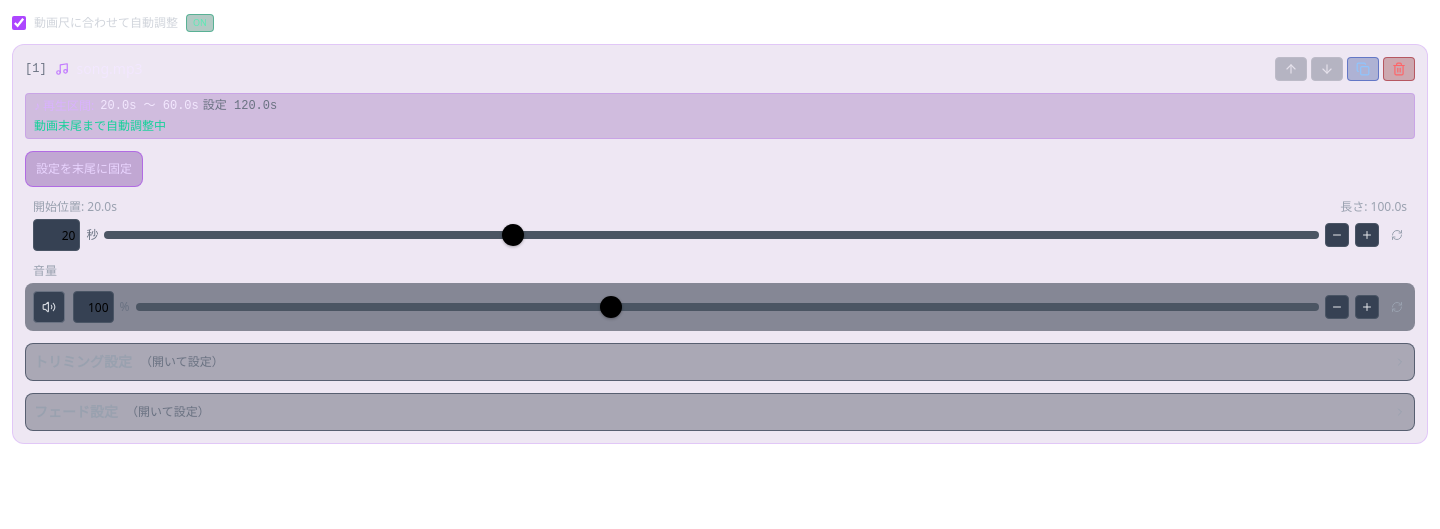
BgmClipList timeline adjustment › 対象のBGMが現在流れていないときはトリム反映を無効にする
Click the button "トリミング設定 （開いて設定）" at [83, 362], box [26,344,1414,380]
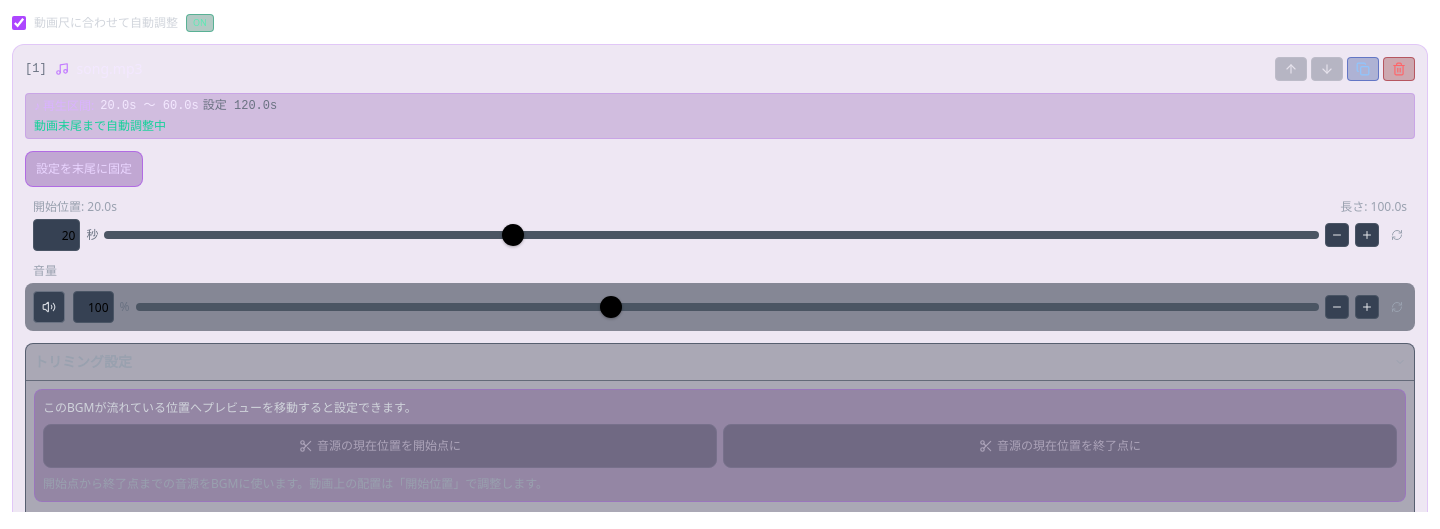
Now the text "このBGMが流れている位置へプレビューを移動すると設定できます。" is shown, box [43,399,417,416]
Now the button "音源の現在位置を開始点に" is disabled, box [43,424,717,468]
Now the button "音源の現在位置を終了点に" is disabled, box [723,424,1397,468]
